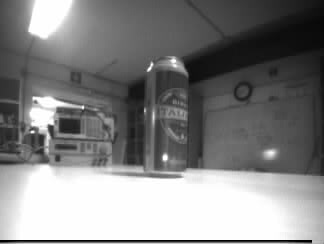Tin can: (145, 57, 186, 175)
